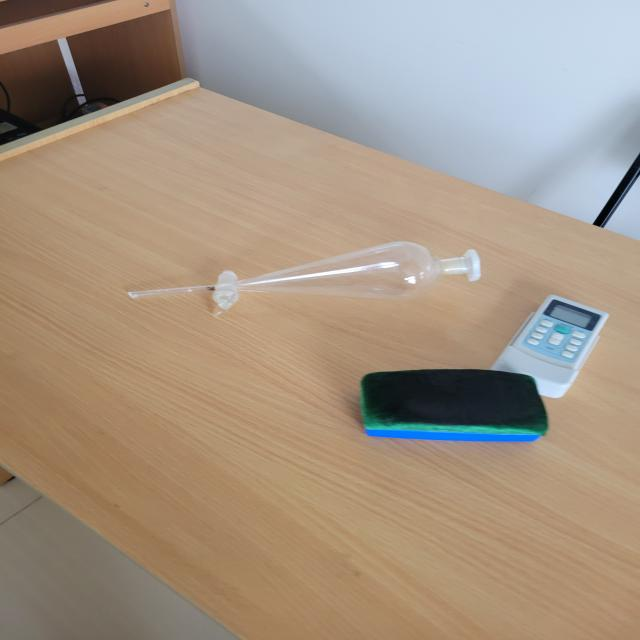Separating_Funnel: (98, 189, 514, 350)
